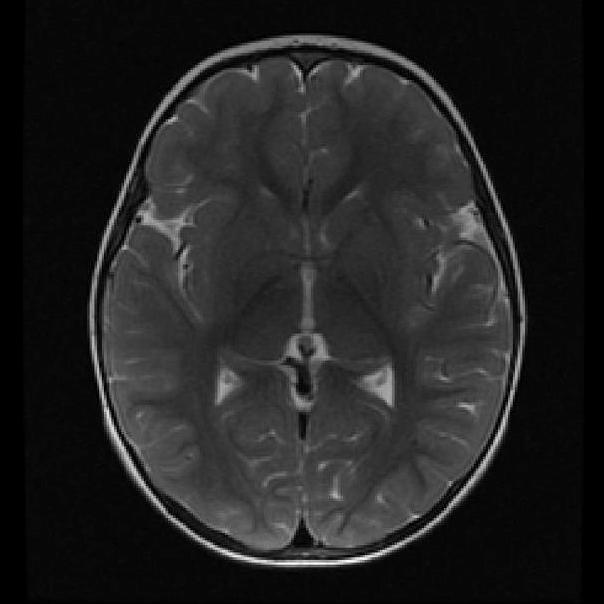Normal_Brain: (5, 1, 604, 604)
